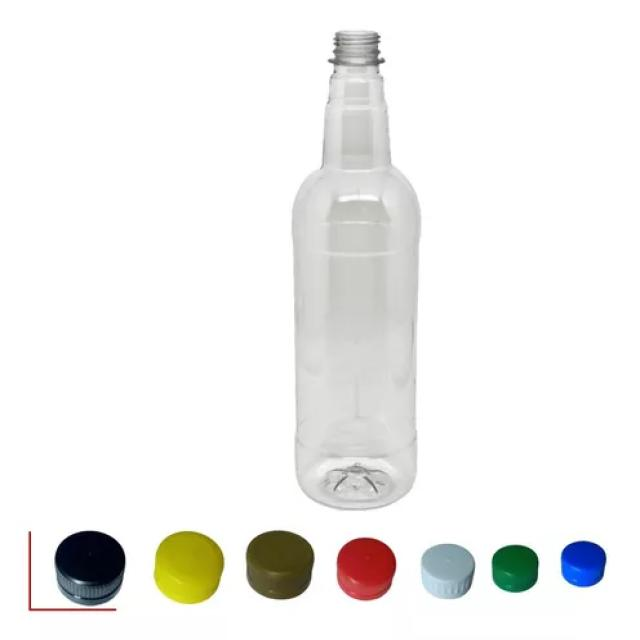bottom: (287, 437, 436, 515)
cap: (147, 525, 229, 612), (242, 521, 319, 607), (49, 523, 127, 597), (332, 532, 404, 600), (427, 528, 473, 596), (554, 542, 609, 588), (493, 544, 537, 590)
no_cap: (321, 28, 393, 80)
